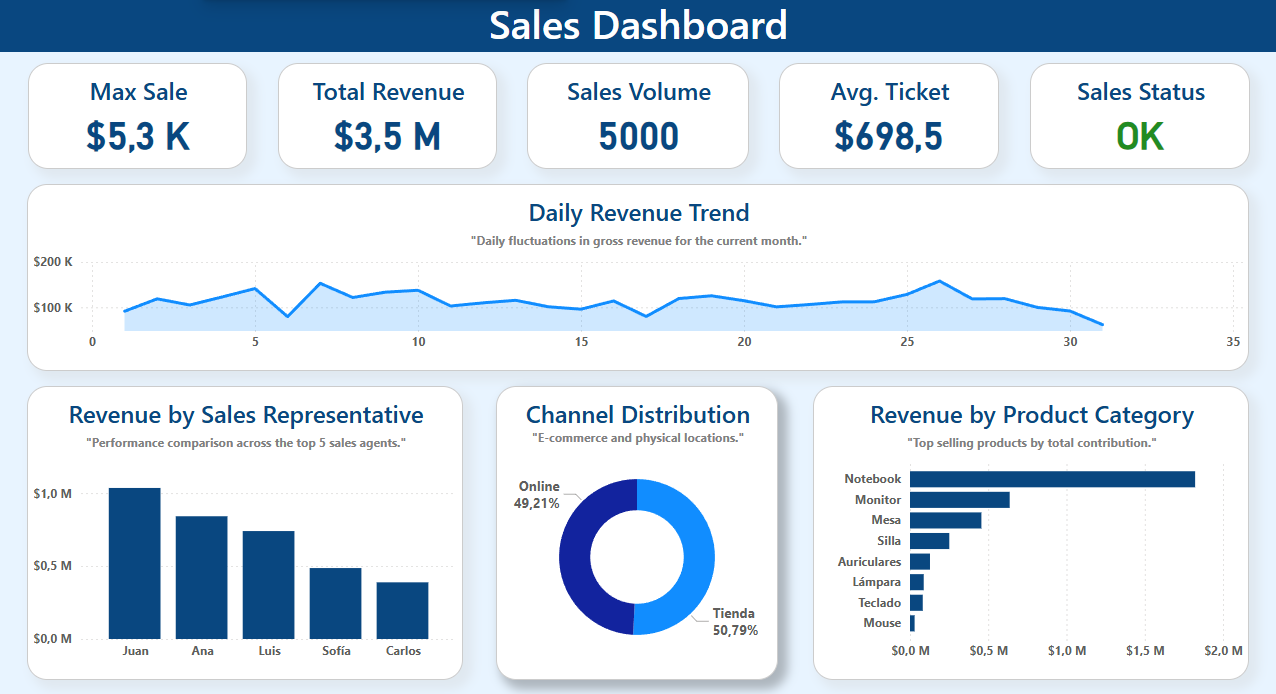

The page's visual inventory and layout, read from the dashboard file:
{"tool":"powerbi","page":{"name":"Página 1","canvas":[1280,720],"ordinal":0},"visuals":[{"type":"card","title":"Total Revenue","fields":{"Values":["sales_pipeline_ventas.Total Revenue"]},"box":[280,87,219,106],"z":0},{"type":"card","title":"Avg. Ticket","fields":{"Values":["sales_pipeline ventas.Ticket Promedio"]},"box":[781,87,220,106],"z":1000},{"type":"card","title":"Sales Volume","fields":{"Values":["sales_pipeline ventas.Cantidad Ventas"]},"box":[529,87,222,106],"z":2000},{"type":"card","title":"Max Sale","fields":{"Values":["sales_pipeline ventas.Venta Máxima"]},"box":[30,87,219,106],"z":3000},{"type":"lineChart","title":"Daily Revenue Trend","fields":{"Category":["sales_pipeline ventas.fecha.Variación.Jerarquía de fechas.Día"],"Y":["sales_pipeline_ventas.Total Revenue"]},"box":[29,208,1222,187],"z":4000},{"type":"barChart","title":"Revenue by Product Category","fields":{"Category":["sales_pipeline ventas.producto"],"Y":["sales_pipeline_ventas.Total Revenue"]},"box":[815,410,436,294],"z":5000},{"type":"clusteredColumnChart","title":"Revenue by Sales Representative","fields":{"Category":["sales_pipeline ventas.vendedor"],"Y":["sales_pipeline_ventas.Total Revenue"]},"box":[29,410,436,294],"z":6000},{"type":"card","title":"Sales Status","fields":{"Values":["sales_pipeline ventas.Alerta Ventas"]},"box":[1032,87,220,106],"z":7000},{"type":"textbox","title":"Sales Dashboard","box":[0,0,1280.5,76.3],"z":8000},{"type":"donutChart","title":"Channel Distribution","fields":{"Category":["sales_pipeline ventas.canal"],"Y":["sales_pipeline_ventas.Total Revenue"]},"box":[498,410,282,294],"z":9000}]}

Visuals, with their boxes on the page's 1280x720 design canvas (x1, y1, x2, y2). These are canvas units, not pixel positions in the 1276x694 screenshot, which may show the page scaled, cropped or inside an application window:
"Total Revenue" card: [x1=280, y1=87, x2=499, y2=193]
"Avg. Ticket" card: [x1=781, y1=87, x2=1001, y2=193]
"Sales Volume" card: [x1=529, y1=87, x2=751, y2=193]
"Max Sale" card: [x1=30, y1=87, x2=249, y2=193]
"Daily Revenue Trend" lineChart: [x1=29, y1=208, x2=1251, y2=395]
"Revenue by Product Category" barChart: [x1=815, y1=410, x2=1251, y2=704]
"Revenue by Sales Representative" clusteredColumnChart: [x1=29, y1=410, x2=465, y2=704]
"Sales Status" card: [x1=1032, y1=87, x2=1252, y2=193]
"Sales Dashboard" textbox: [x1=0, y1=0, x2=1280, y2=76]
"Channel Distribution" donutChart: [x1=498, y1=410, x2=780, y2=704]
